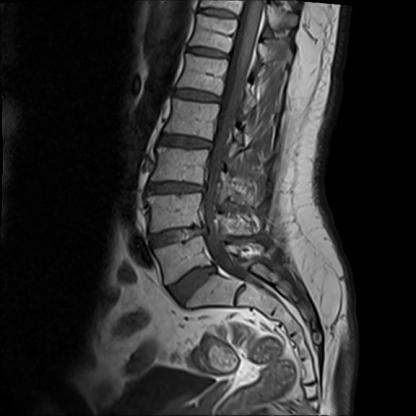Disc Bulgerotation: (158, 131, 215, 155), (148, 177, 206, 200), (145, 226, 203, 248)
Disc Protrusionrotation: (162, 269, 225, 296)
